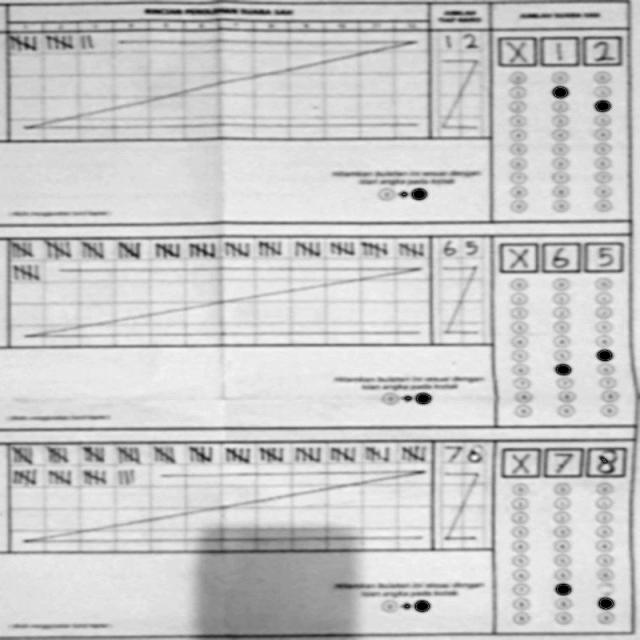Suara: (493, 30, 622, 68), (498, 446, 627, 479), (497, 242, 625, 272)
